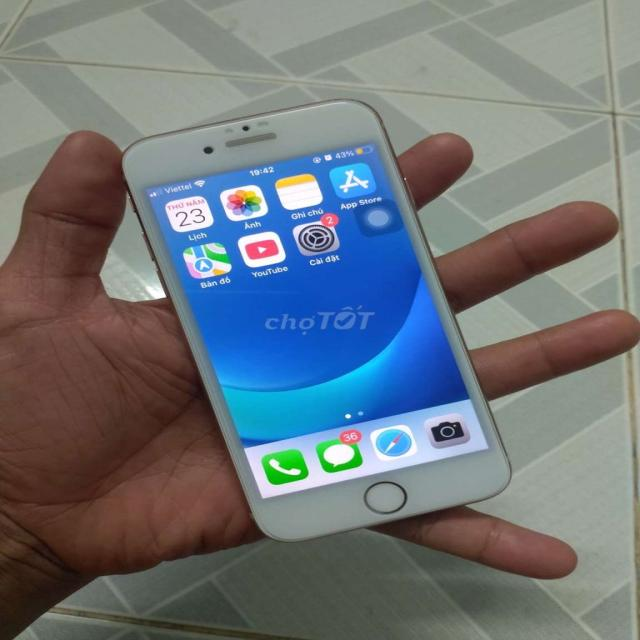gen_7_8: (113, 93, 516, 547)
